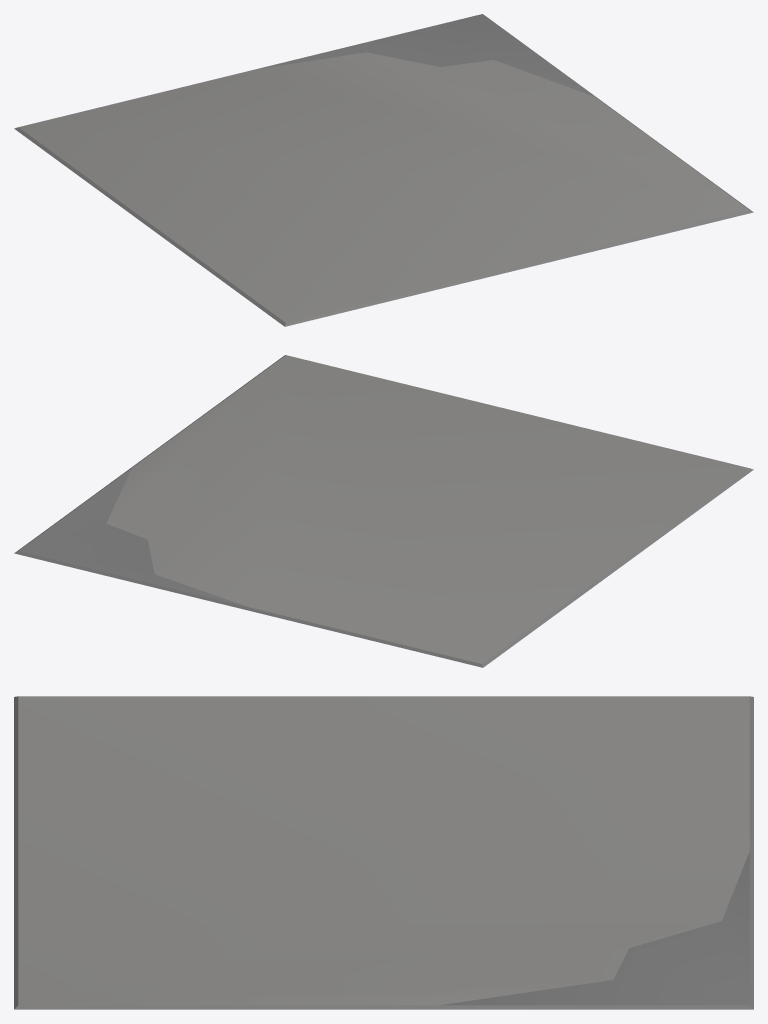
File: SM_Envr_Road_Sidewalk_Floor_03.fbx
3 renders of one model, top to bottom at view 1: azimuth 30°, elevation 25°; view 2: azimuth 150°, elevation 25°; view 3: azimuth 270°, elevation 25°, orthographic. The views are drawn at different scales.
Parts seen in each view (by area): view 1: SM_Envr_Road_Sidewalk_Floor_03; view 2: SM_Envr_Road_Sidewalk_Floor_03; view 3: SM_Envr_Road_Sidewalk_Floor_03.
Part boxes in pixels (x1,y1,x2,y2): SM_Envr_Road_Sidewalk_Floor_03: (14,14,753,326); SM_Envr_Road_Sidewalk_Floor_03: (14,355,753,667); SM_Envr_Road_Sidewalk_Floor_03: (14,696,753,1009).
Bounding box in the file's own units: 500 × 2 × 500.
